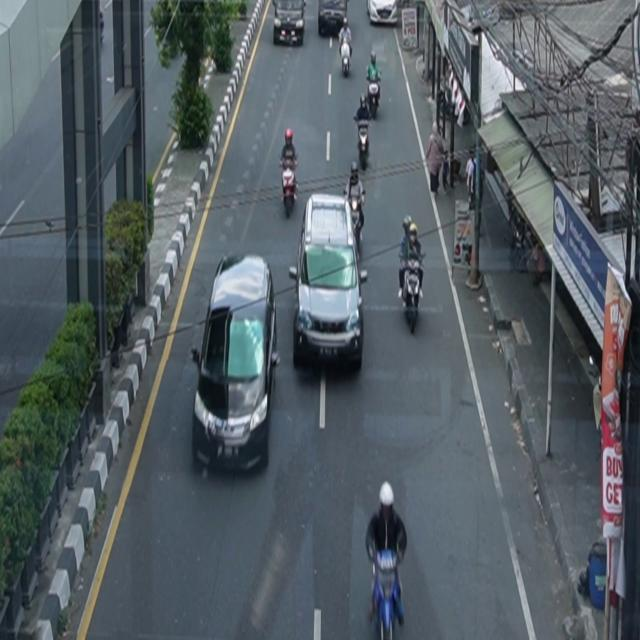car: (192, 253, 282, 475), (289, 194, 369, 372), (274, 1, 306, 47), (319, 1, 349, 38), (367, 1, 398, 26)
